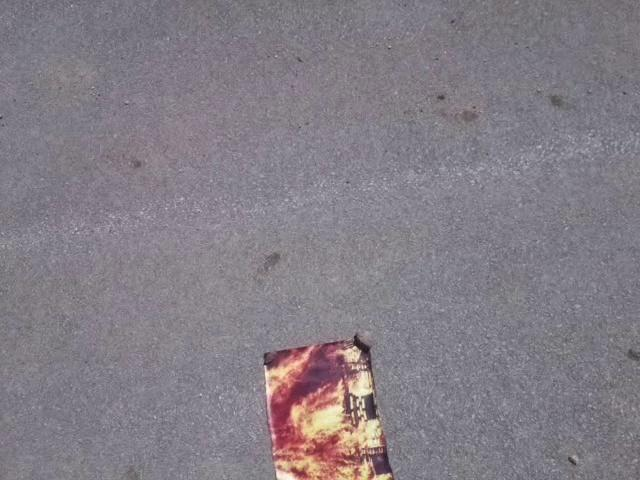fire-poster: (260, 332, 398, 479)
